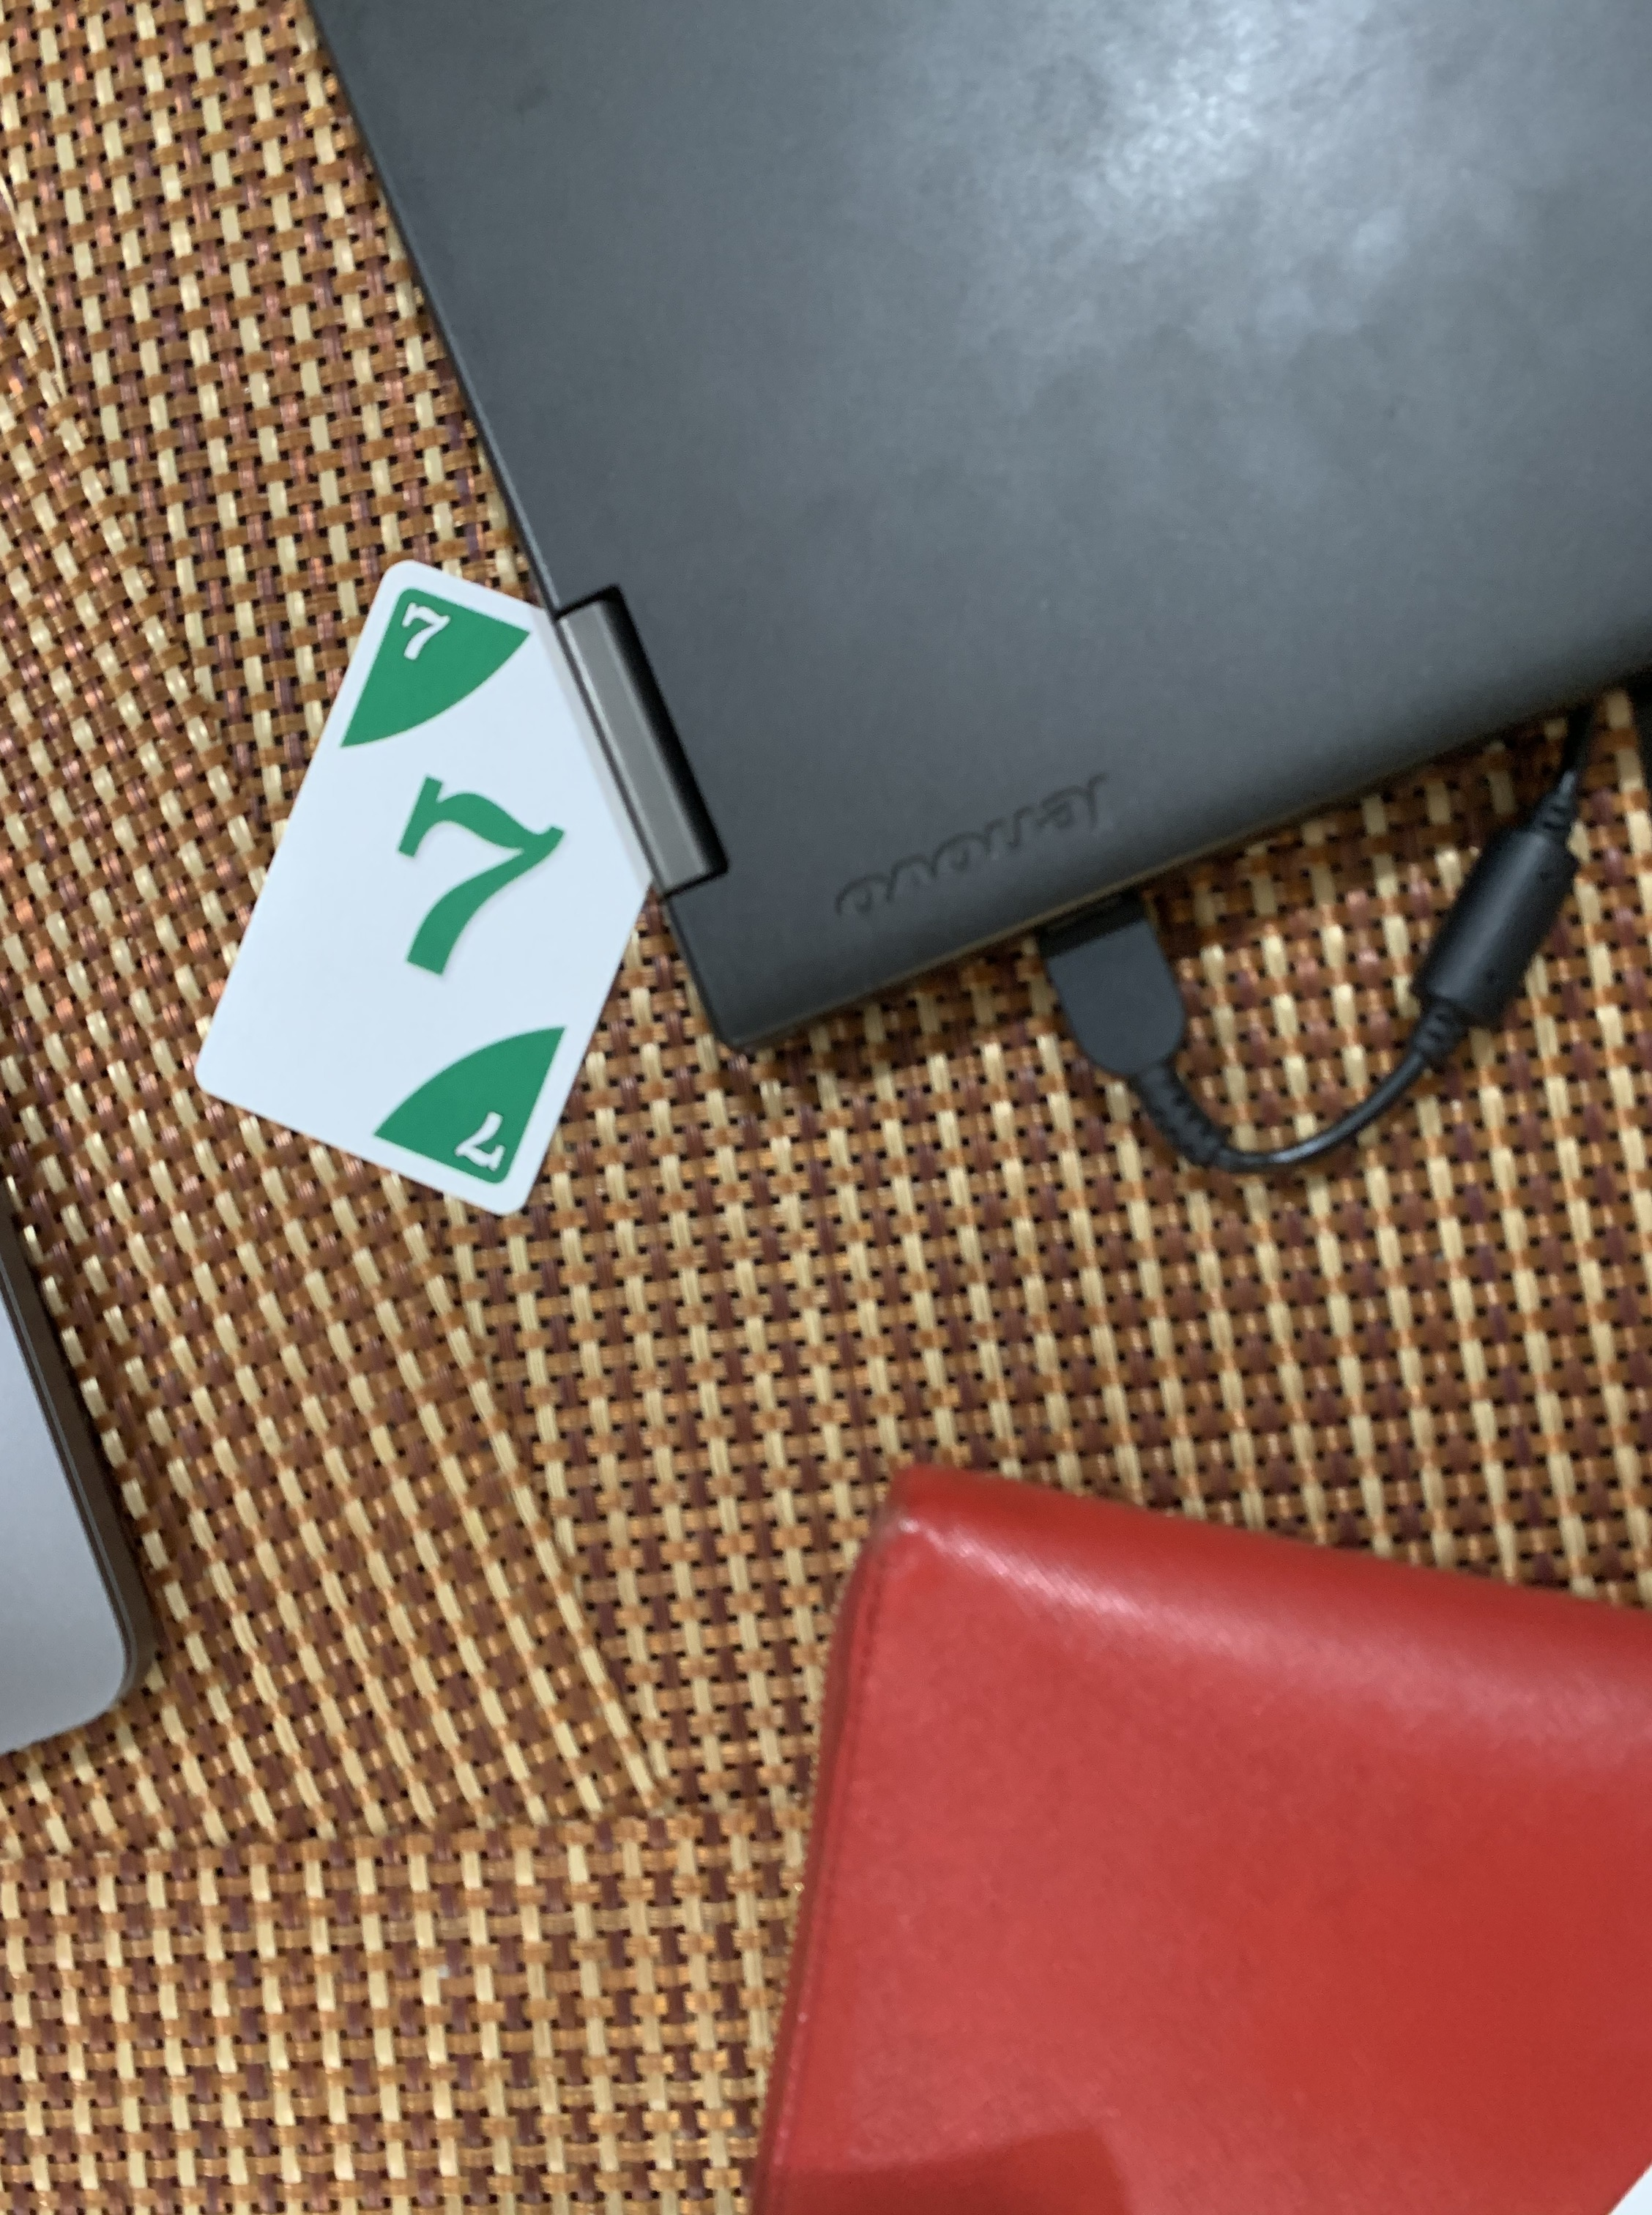seven: (177, 545, 715, 1219)
